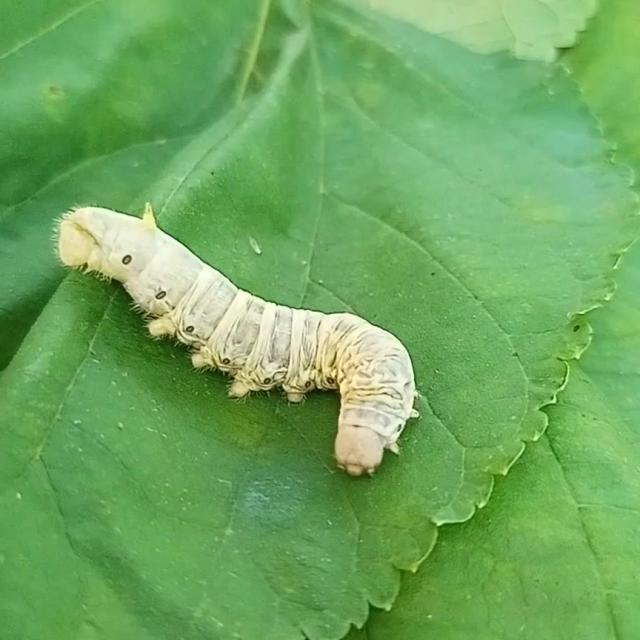Grasserie: (38, 173, 430, 489)
